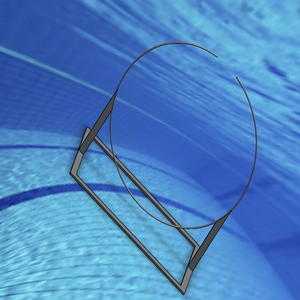circle: (70, 38, 259, 290)
